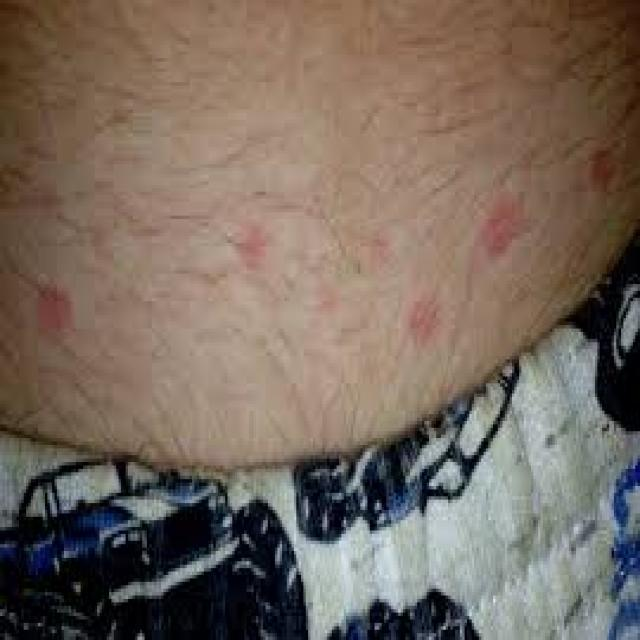kan emici bocekler: (472, 199, 531, 262), (398, 299, 447, 348), (574, 153, 619, 198), (42, 290, 77, 335), (237, 227, 269, 273), (356, 239, 392, 276)
